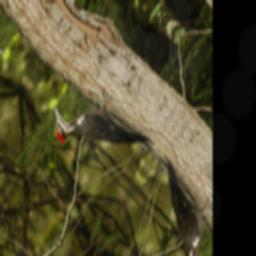Woodpecker: (40, 58, 159, 203)
